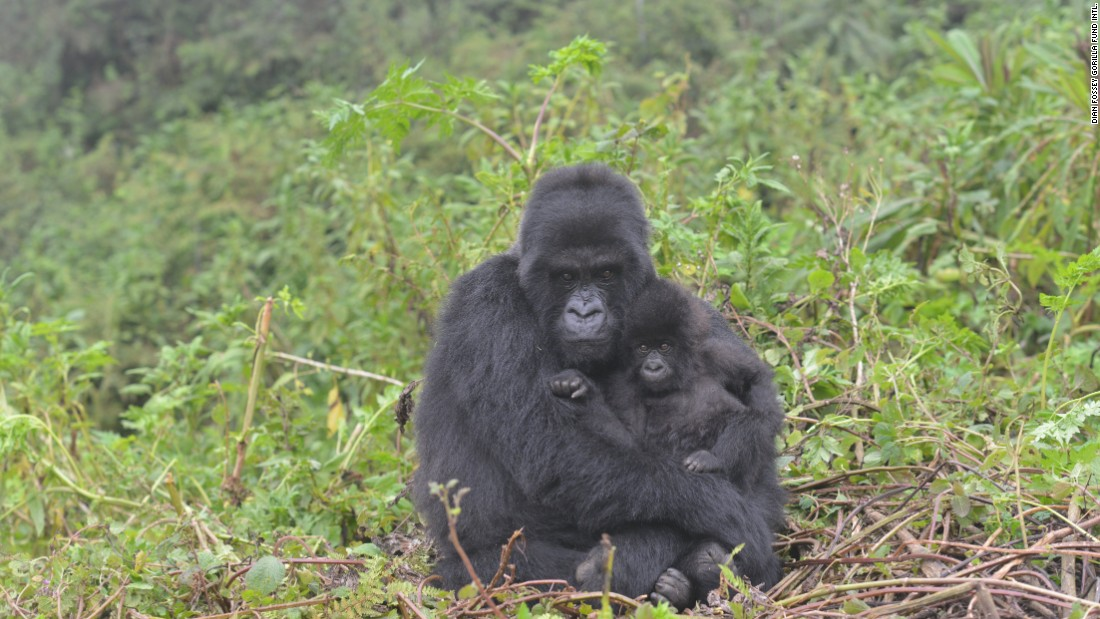Goriila: (397, 111, 821, 619)
